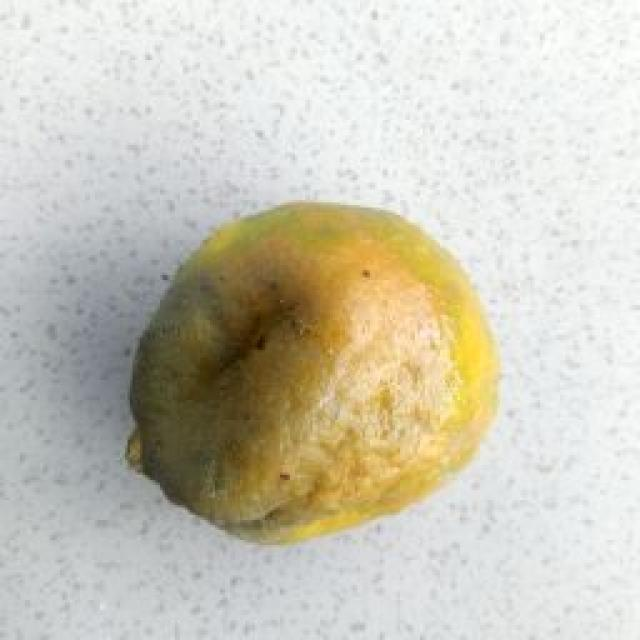Bad_Orange: (129, 202, 498, 542)
